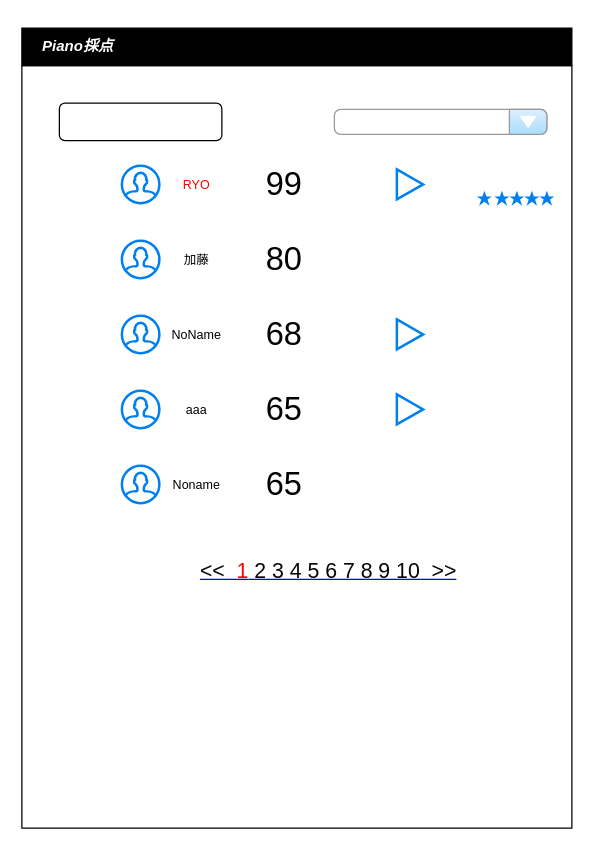
The diagram is 594 pixels wide and 850 high, and some of its shapes have lost their labels. Each missing label, with the centre of its shape:
"エリーゼのために" goes at (140,121).
"他の曲を探す" goes at (440,121).
